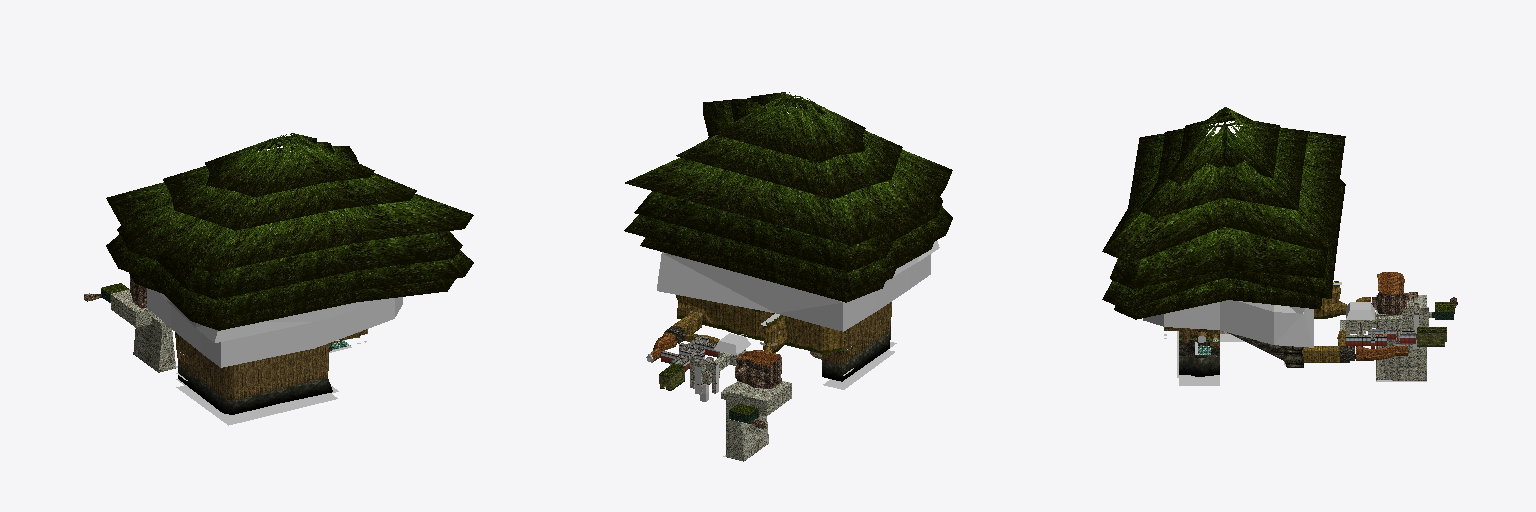
The picture shows the model from 3 angles: view 1: azimuth 30°, elevation 25°; view 2: azimuth 150°, elevation 25°; view 3: azimuth 270°, elevation 25°; orthographic projection.
Visible parts, largest first — view 1: #Room0#IndoorEnv01#IgnoreFog#_Background#NoCollision_Forest_Tree, #Room0#IndoorEnv01#IgnoreFog#_Background#NoCollision.001_Backgro, #Room0#IndoorEnv01#IgnoreFog#_Room0_Grass-Dirt., #Room6#_Room6#Stone#Camera2_MossBrick#SFX_2, #Room0#IndoorEnv01#IgnoreFog#_Room0_RockwithShadow.; view 2: #Room0#IndoorEnv01#IgnoreFog#_Background#NoCollision_Forest_Tree, #Room0#IndoorEnv01#IgnoreFog#_Background#NoCollision.001_Backgro, #Room0#IndoorEnv01#IgnoreFog#_Room0_Grass-Dirt2., #Room6#_Room6#Stone#Camera2_MossBrick#SFX_2, #Room0#IndoorEnv01#IgnoreFog#_Room0_Grass-Dirt., #Room7#_Room7#Stone#Camera2_object_rock., #Room0#IndoorEnv01#IgnoreFog#_Room0_RockwithShadow., #Room3#_Room3#Camera1#Stone_MossBrick#SFX_2, #Room2#_Room2#Camera1#Stone_FactoryWall.; view 3: #Room0#IndoorEnv01#IgnoreFog#_Background#NoCollision_Forest_Tree, #Room0#IndoorEnv01#IgnoreFog#_Background#NoCollision.001_Backgro, #Room6#_Room6#Stone#Camera2_MossBrick#SFX_2, #Room0#IndoorEnv01#IgnoreFog#_Room0_Grass-Dirt2., #Room0#IndoorEnv01#IgnoreFog#_Room0_GreyRock., #Room0#IndoorEnv01#IgnoreFog#_Room0_RockwithShadow., #Room2#_Room2#Camera1#Stone_FactoryWall., #Room7#_Room7#Stone#Camera2_object_rock., #Room4#_Room4#Stone#Camera1_DryDirt#SFX_1, #Room3#_Room3#Camera1#Stone_MossBrick#SFX_2, #Room7#_Room7#Stone#Camera2_DryDirt#SFX_1.
Boxes of the visible parts, box(x1,y1,x2,y2) form: #Room0#IndoorEnv01#IgnoreFog#_Background#NoCollision_Forest_Tree: box(106, 133, 473, 330); #Room0#IndoorEnv01#IgnoreFog#_Background#NoCollision.001_Backgro: box(147, 288, 402, 367); #Room0#IndoorEnv01#IgnoreFog#_Room0_Grass-Dirt.: box(176, 329, 367, 399); #Room6#_Room6#Stone#Camera2_MossBrick#SFX_2: box(111, 289, 175, 372); #Room0#IndoorEnv01#IgnoreFog#_Room0_RockwithShadow.: box(178, 363, 332, 414); #Room0#IndoorEnv01#IgnoreFog#_Background#NoCollision_Forest_Tree: box(624, 92, 952, 302); #Room0#IndoorEnv01#IgnoreFog#_Background#NoCollision.001_Backgro: box(657, 241, 939, 331); #Room0#IndoorEnv01#IgnoreFog#_Room0_Grass-Dirt2.: box(673, 295, 843, 353); #Room6#_Room6#Stone#Camera2_MossBrick#SFX_2: box(721, 381, 791, 461); #Room0#IndoorEnv01#IgnoreFog#_Room0_Grass-Dirt.: box(822, 302, 891, 364); #Room7#_Room7#Stone#Camera2_object_rock.: box(735, 357, 781, 388); #Room0#IndoorEnv01#IgnoreFog#_Room0_RockwithShadow.: box(822, 332, 890, 381); #Room3#_Room3#Camera1#Stone_MossBrick#SFX_2: box(690, 356, 725, 393); #Room2#_Room2#Camera1#Stone_FactoryWall.: box(661, 338, 718, 371); #Room0#IndoorEnv01#IgnoreFog#_Background#NoCollision_Forest_Tree: box(1102, 107, 1345, 319); #Room0#IndoorEnv01#IgnoreFog#_Background#NoCollision.001_Backgro: box(1143, 300, 1313, 347); #Room6#_Room6#Stone#Camera2_MossBrick#SFX_2: box(1375, 295, 1431, 380); #Room0#IndoorEnv01#IgnoreFog#_Room0_Grass-Dirt2.: box(1212, 281, 1370, 362); #Room0#IndoorEnv01#IgnoreFog#_Room0_GreyRock.: box(1179, 332, 1354, 366); #Room0#IndoorEnv01#IgnoreFog#_Room0_RockwithShadow.: box(1179, 356, 1219, 376); #Room2#_Room2#Camera1#Stone_FactoryWall.: box(1346, 330, 1415, 348); #Room7#_Room7#Stone#Camera2_object_rock.: box(1372, 282, 1417, 314); #Room4#_Room4#Stone#Camera1_DryDirt#SFX_1: box(1356, 346, 1407, 360); #Room3#_Room3#Camera1#Stone_MossBrick#SFX_2: box(1378, 310, 1428, 328); #Room7#_Room7#Stone#Camera2_DryDirt#SFX_1: box(1377, 272, 1404, 294).
Bounding box in the file's own units: 7178 × 6784 × 7814.
95 materials, 50 textured.